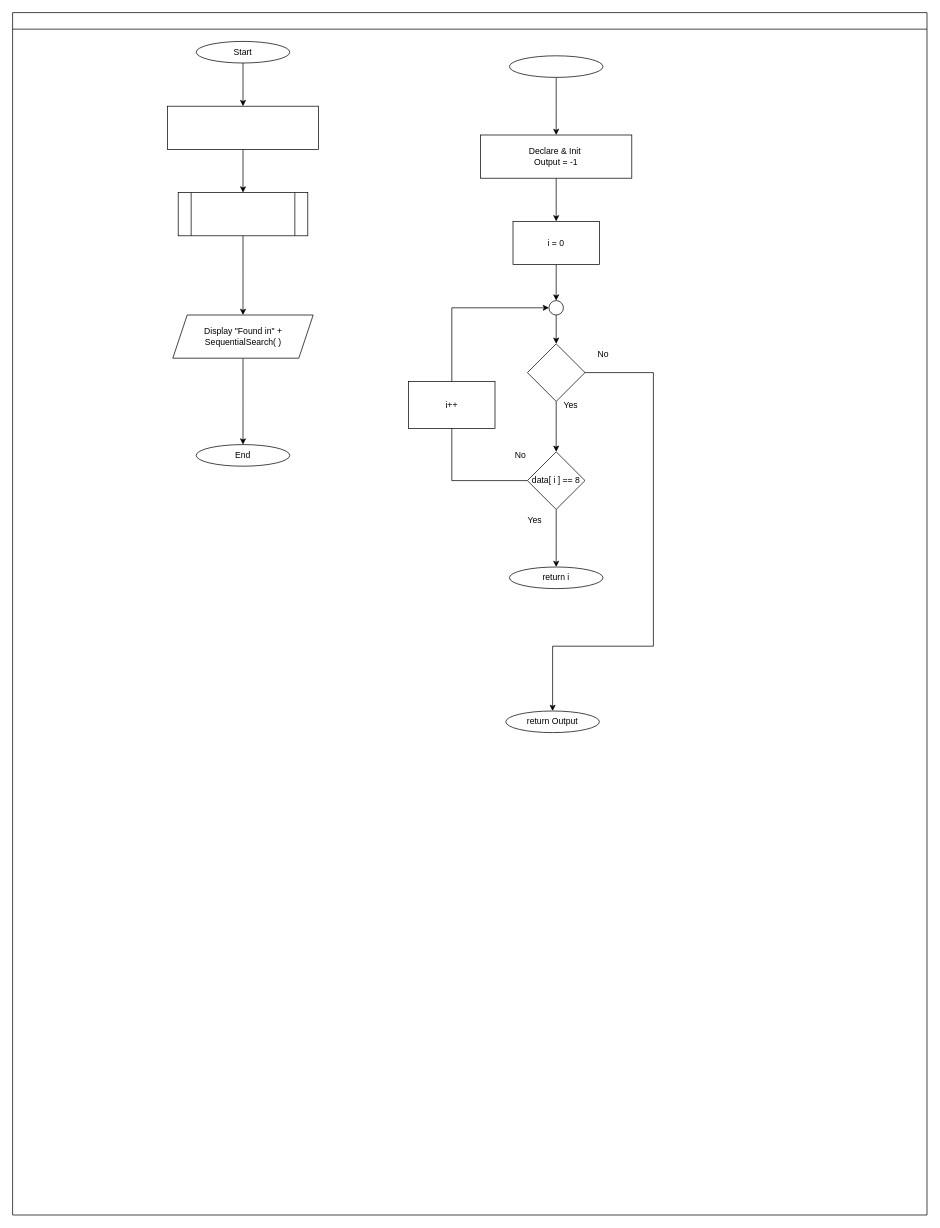
Image size: 940x1228. Some labels were removed from this diagram. The centre of each missing label's shape, as x and y in pixels:
"Declare & Init 7, 4, 1, 8, 3, 2 in array is int" goes at [243,127].
"i < n" goes at [556,372].
"SequentialSearch( )" goes at [556,66].
"SequentialSearch(data,6,8)" goes at [242,214].
